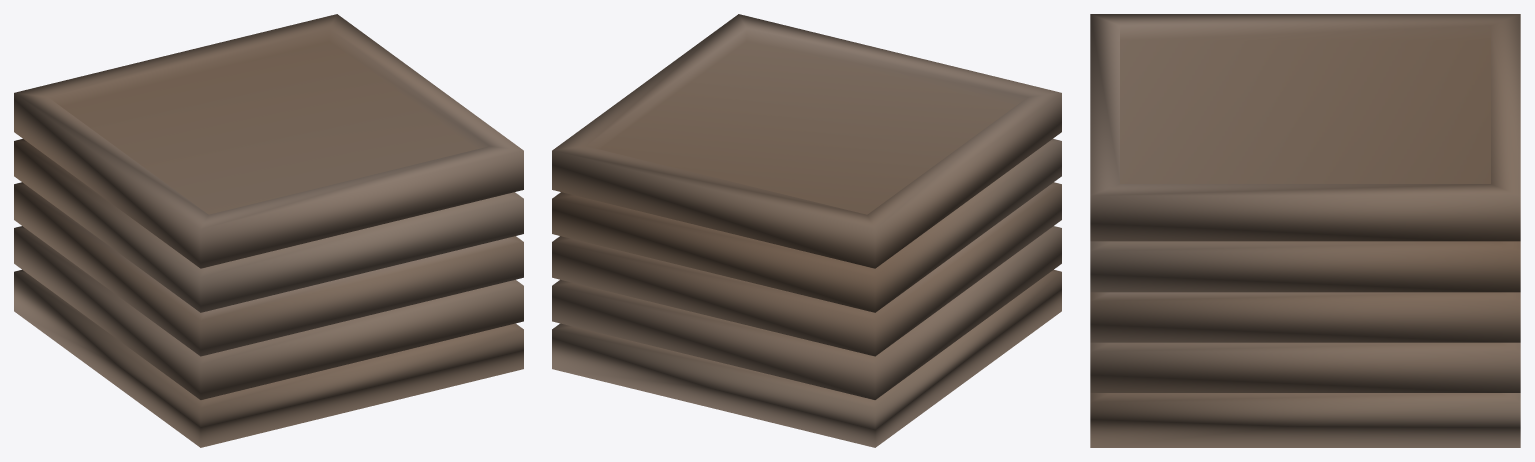
Rendered from MateraCuadrada.fbx.
3 views of the same model, side by side, from view 1: azimuth 30°, elevation 25°; view 2: azimuth 150°, elevation 25°; view 3: azimuth 270°, elevation 25° (orthographic). The views are drawn at different scales.
Parts seen in each view (by area): view 1: MateraCuadrada; view 2: MateraCuadrada; view 3: MateraCuadrada.
Boxes of the visible parts, x1,y1,x2,y2 form: MateraCuadrada: (14,14,523,447); MateraCuadrada: (552,14,1061,447); MateraCuadrada: (1090,14,1520,447).
Size of the model in its own units: 58.62 by 37.88 by 58.62.
